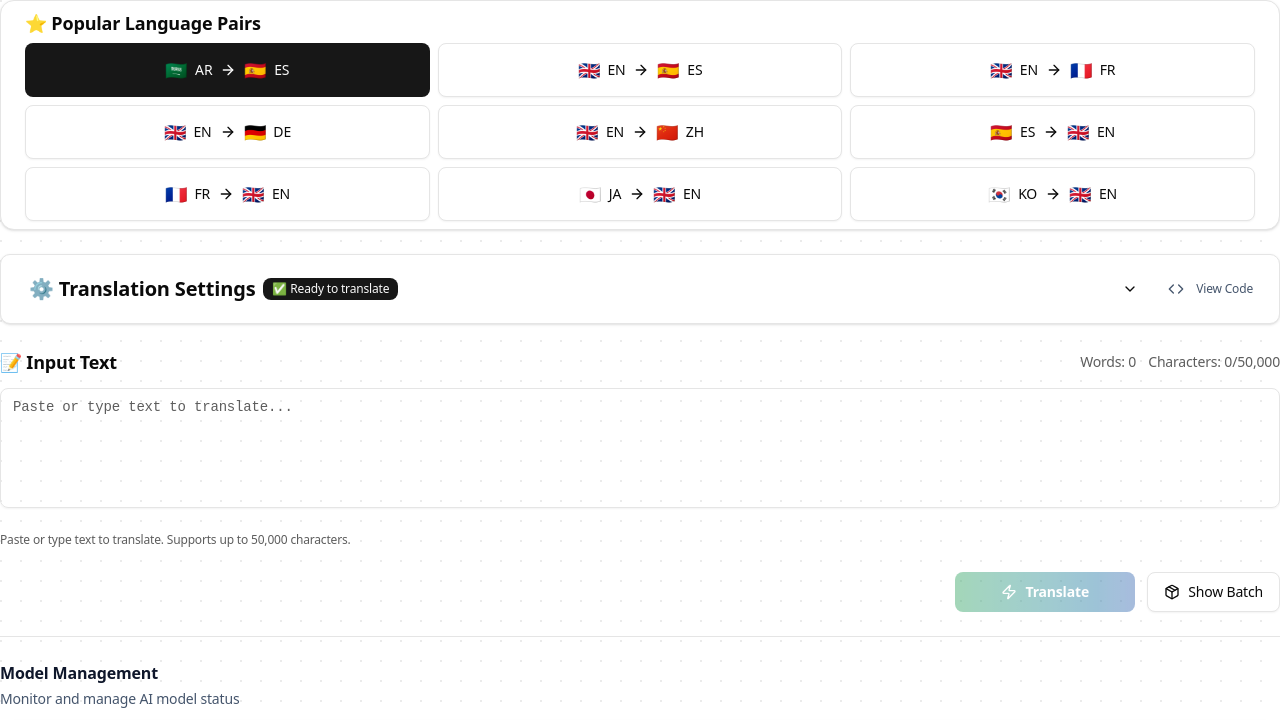
Test: Integration Tests › Batch Translation › add 5 items → process → all succeed
# Click toggle to show batch translation
Step 1. Click the button with test id "toggle-batch-btn" → [1214, 592], box [1147,572,1279,612]
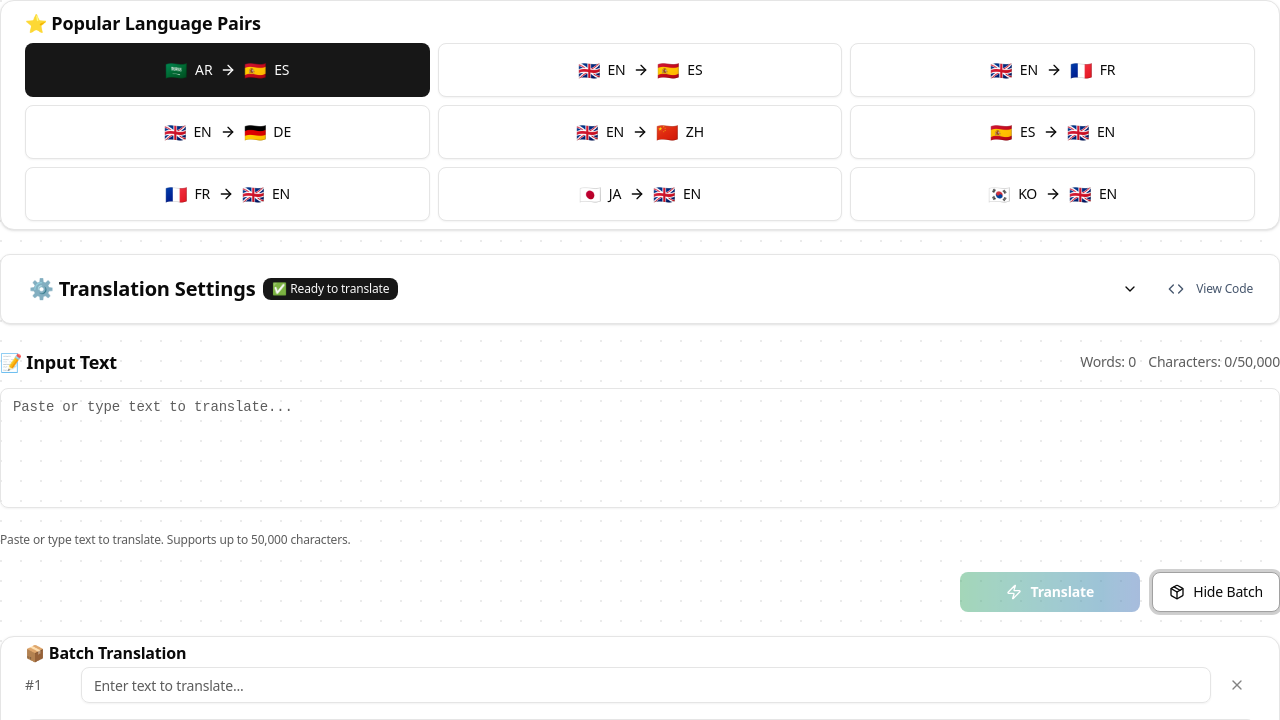
Expected: the text "📦 Batch Translation" is shown, [25,642,186,664]
